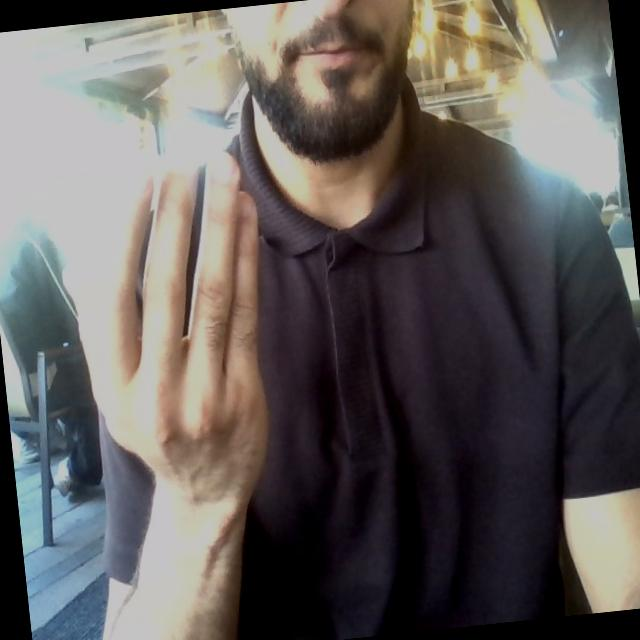Hand: (68, 153, 267, 507)
